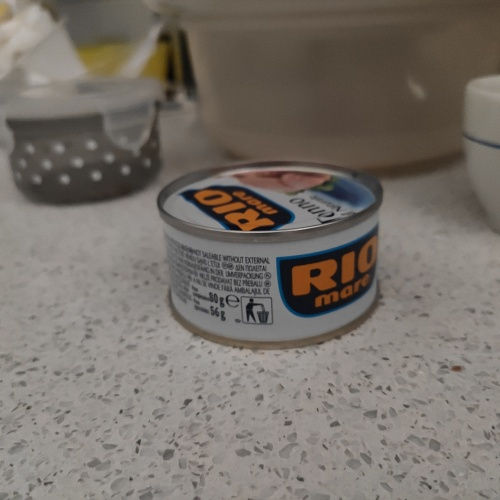tonno: (142, 155, 395, 356)
